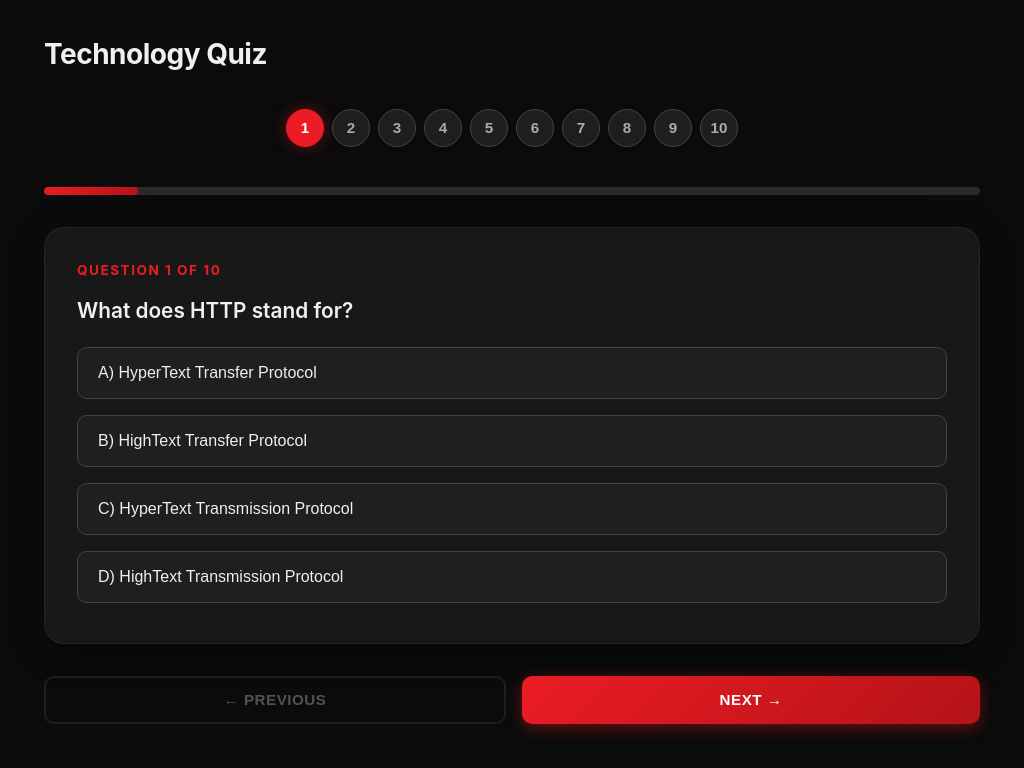
Test case: Quiz › navigates to next question on Next click
Click the button "Next →": (751, 700) top-left (522, 676), bottom-right (980, 724)
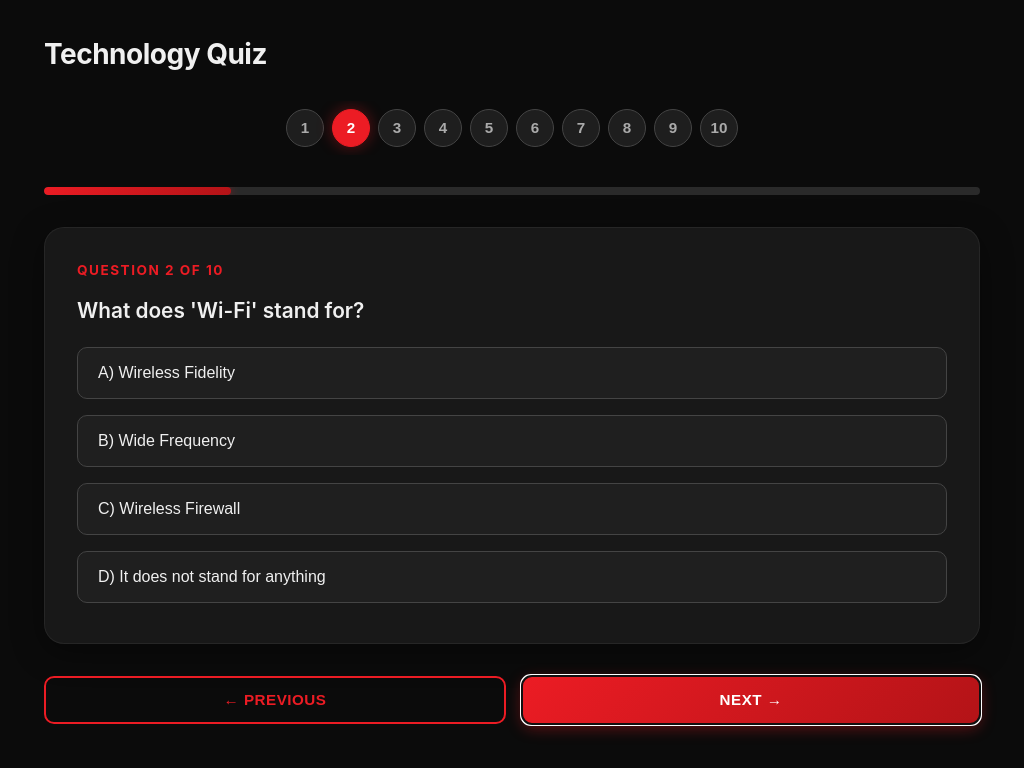
Result: the text "Question 2 of 10" is shown at top-left (77, 262), bottom-right (224, 278)
